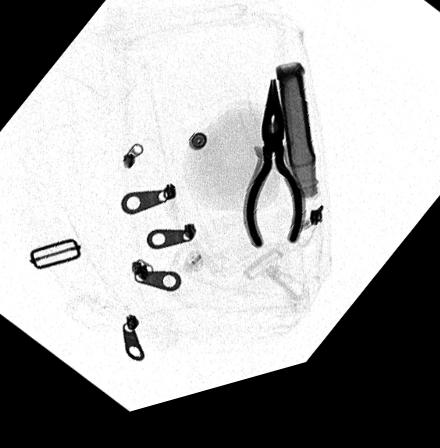Pliers: (241, 92, 307, 266)
